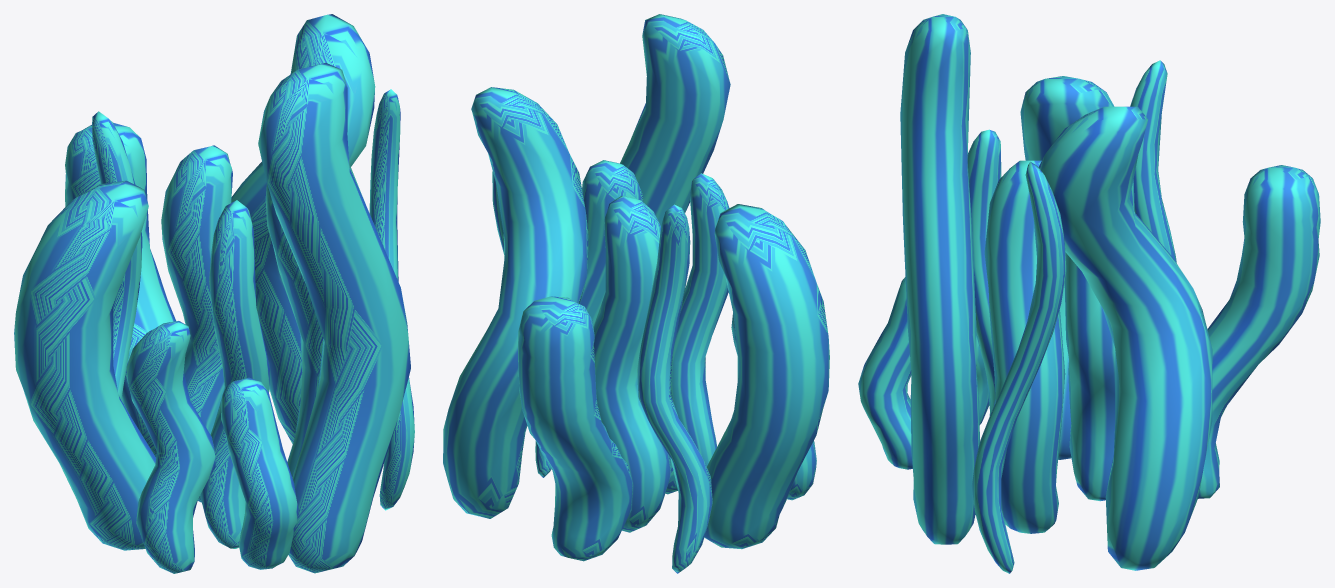
The model's file is sea_plants_rund_downsized.glb.
The picture shows the model from 3 angles, left to right: view 1: azimuth 30°, elevation 25°; view 2: azimuth 150°, elevation 25°; view 3: azimuth 270°, elevation 25°; orthographic projection. The views are drawn at different scales.
Visible parts, largest first — view 1: Cube.005; view 2: Cube.005; view 3: Cube.005.
Part boxes in pixels (<box>): Cube.005: <box>14,14,414,573</box>; Cube.005: <box>443,14,829,573</box>; Cube.005: <box>858,14,1320,573</box>.
Size of the model in its own units: 11.12 by 14.85 by 11.97.
1 material, 1 textured.
